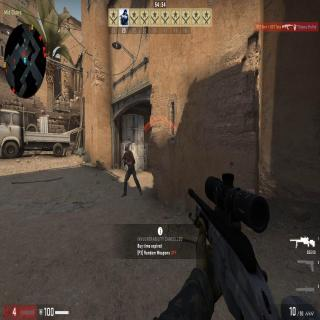T-Body: (122, 146, 142, 196)
T-Head: (125, 147, 129, 154)
